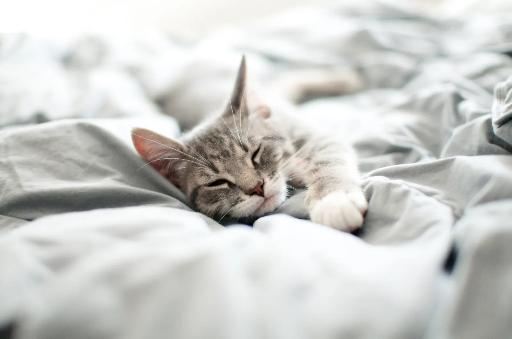cat_sleeping: (132, 56, 367, 232)
